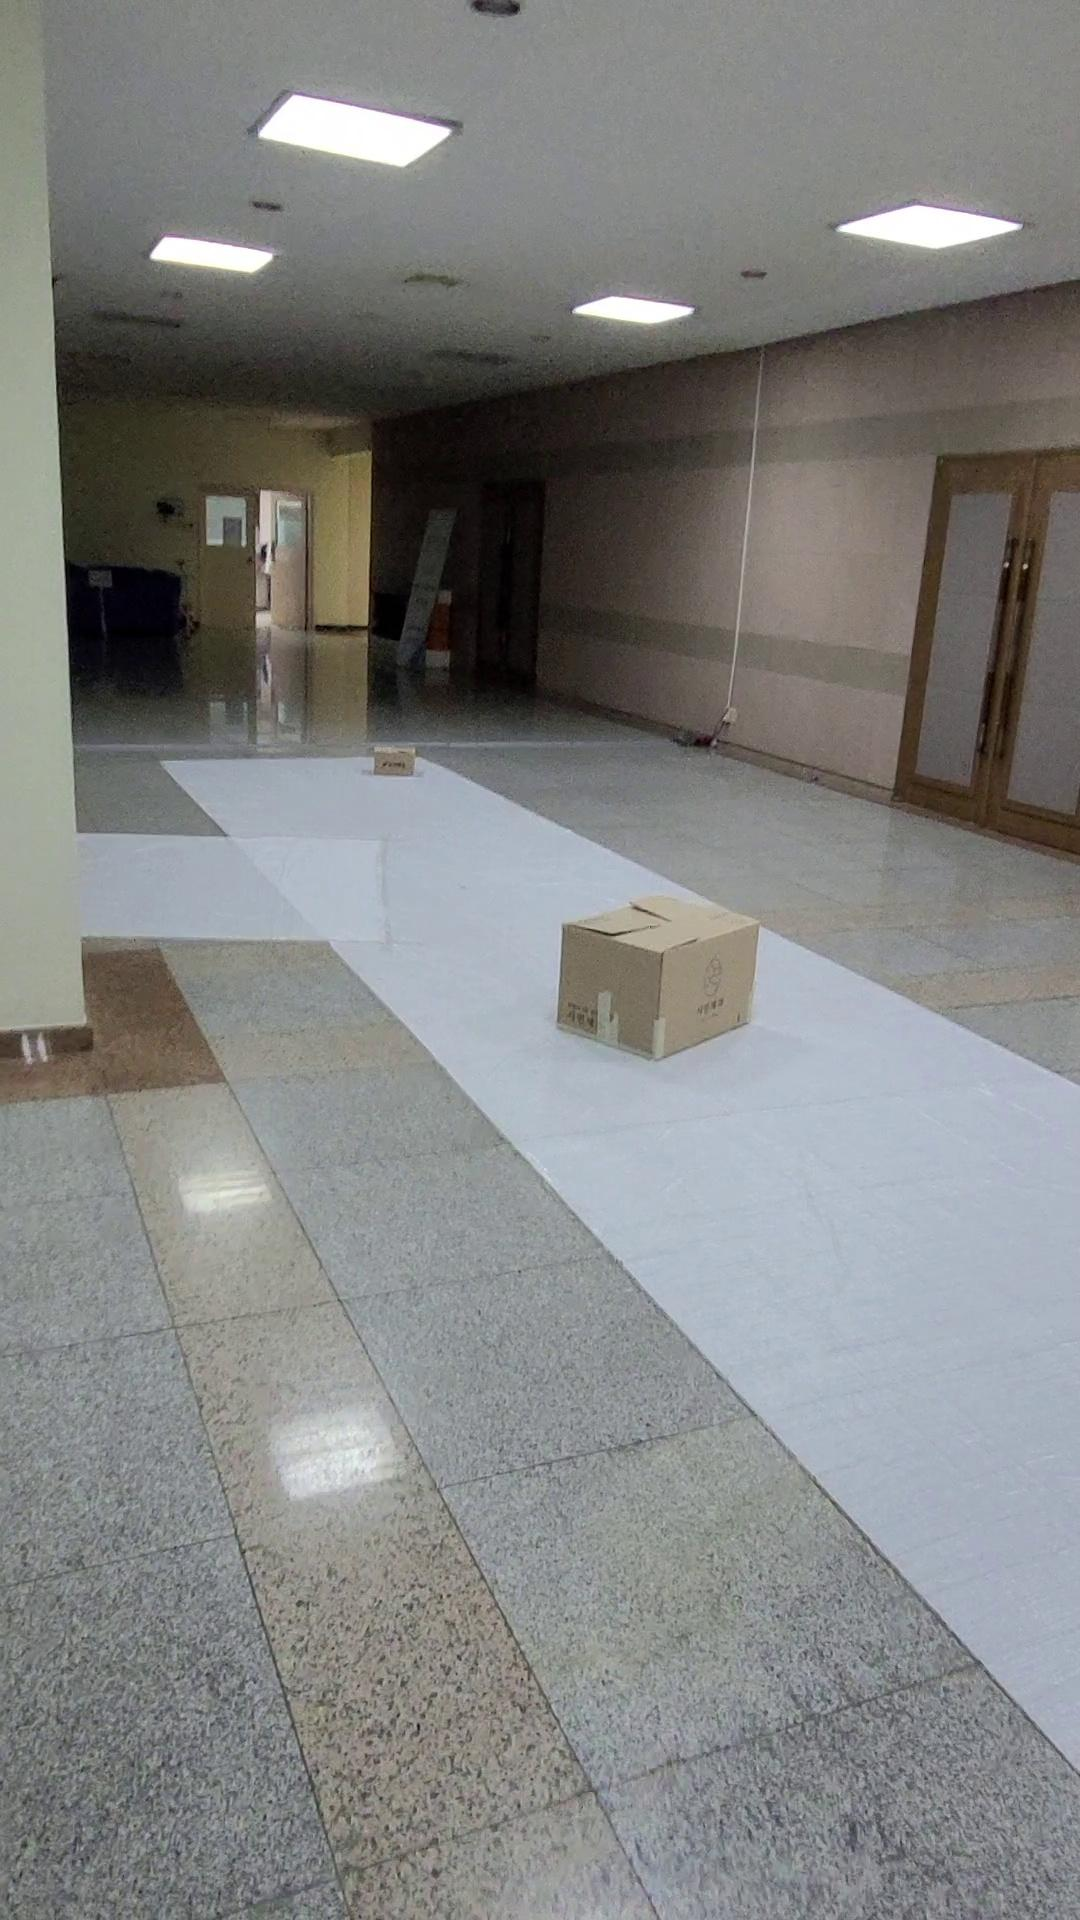Box: (487, 898, 812, 1073), (318, 694, 452, 825)
